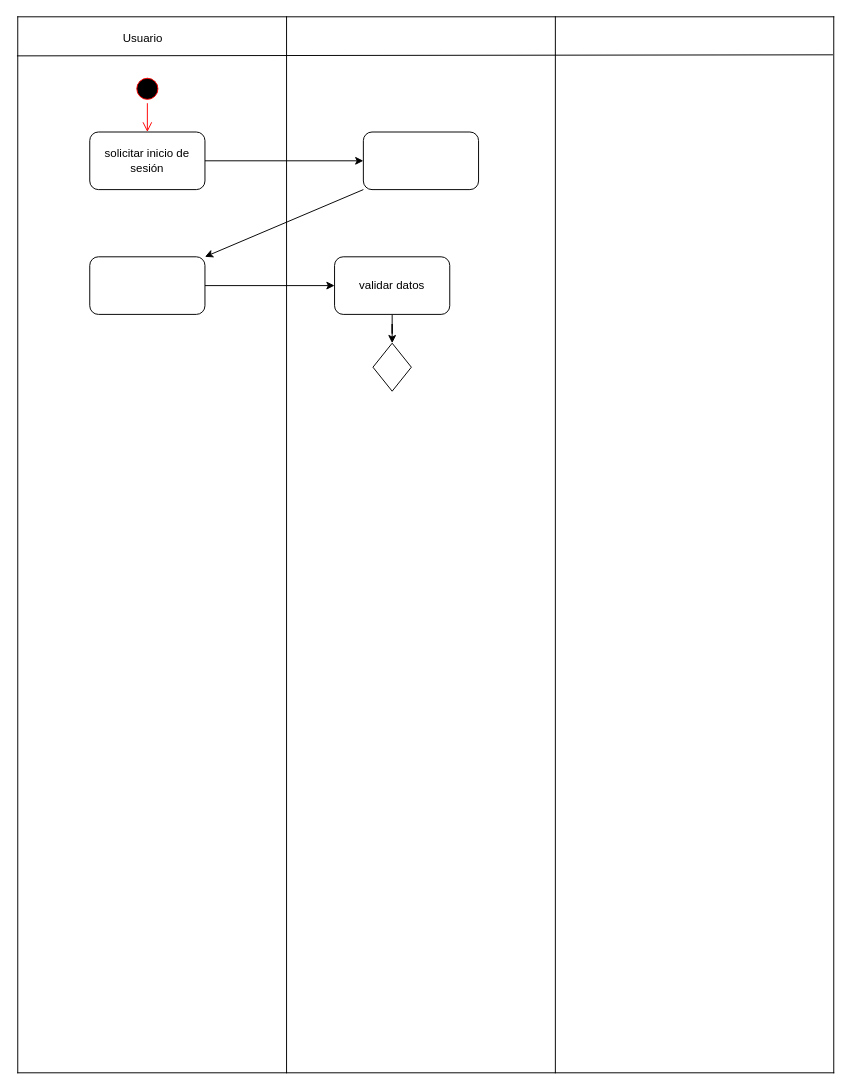
Image size: 851x1090. Some labels were removed from this diagram. Here are the shapes that lost their labels. From the top down, the centre of each, then its label:
At (x=420, y=160): "mostrar interfaz".
At (x=147, y=285): "introducir datos de inicio de sesión".
